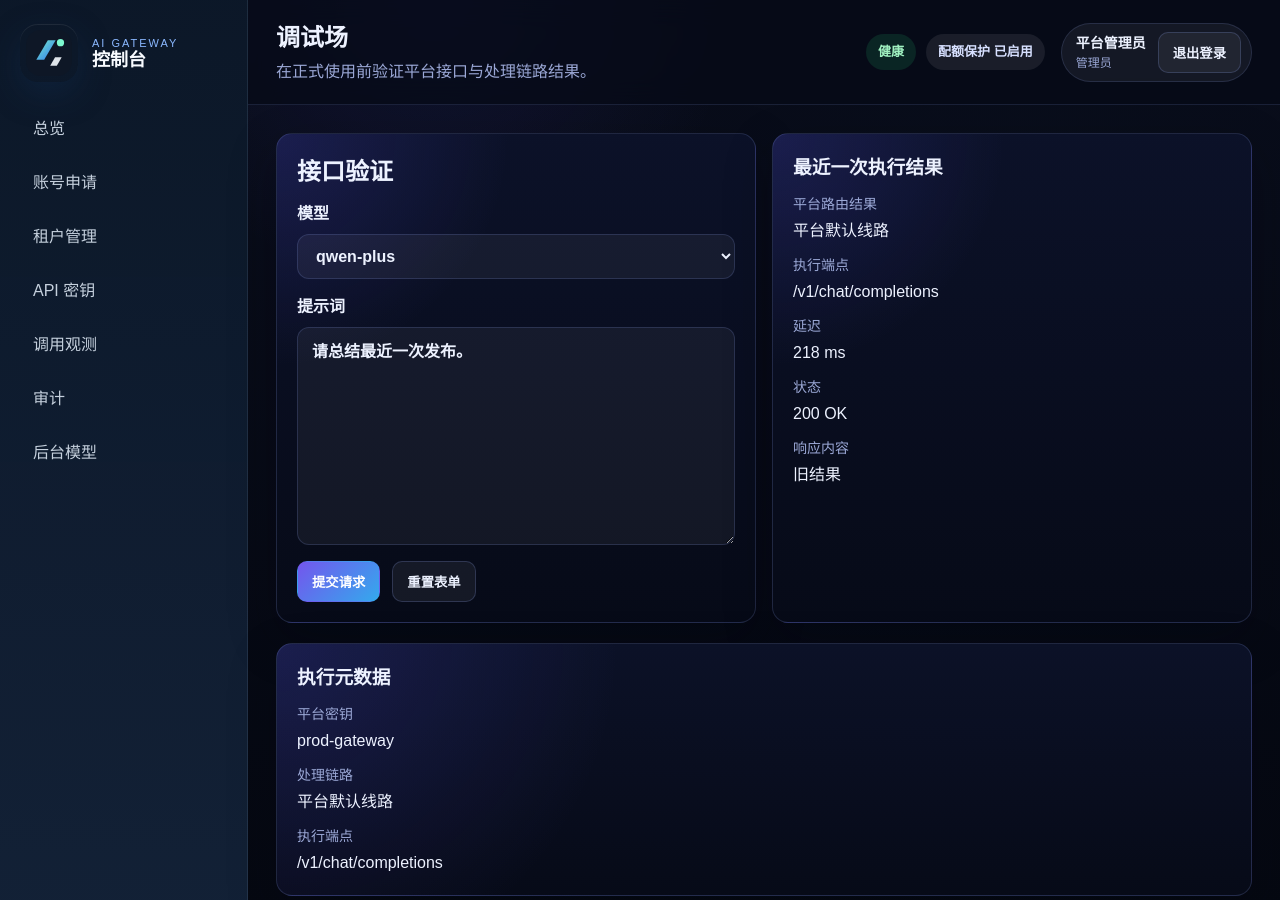
Test: 控制台路由 › 调试场页可以加载数据并提交最近一次请求结果
Check: the heading "调试场" is shown, box [276,24,348,51]
Check: the dropdown showing "qwen-plus" is shown, box [297,234,735,279]
Click the button "提交请求". click: (339, 582)
box: [297,561,380,602]
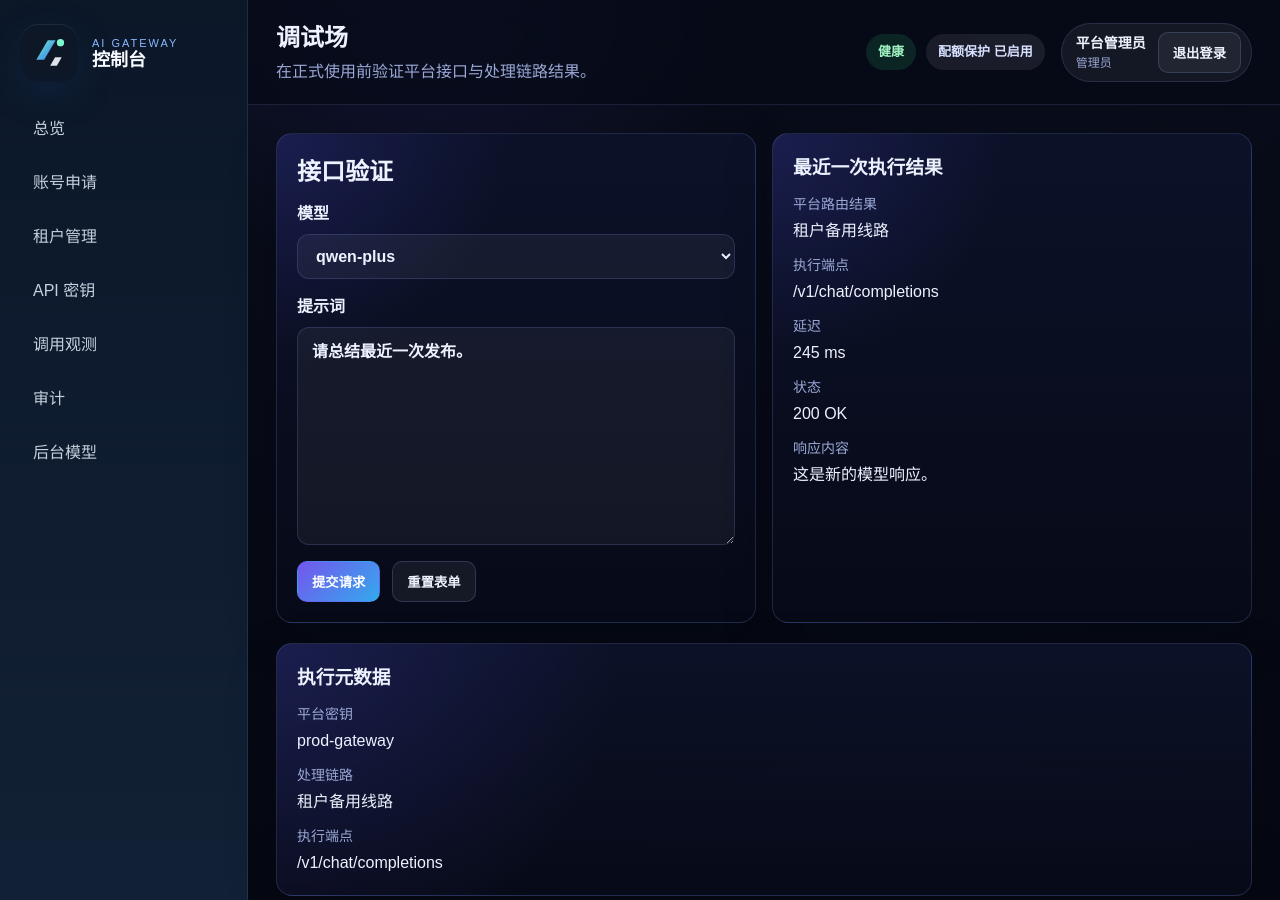
Check: the text "这是新的模型响应。" is shown, box [793,466,937,483]
